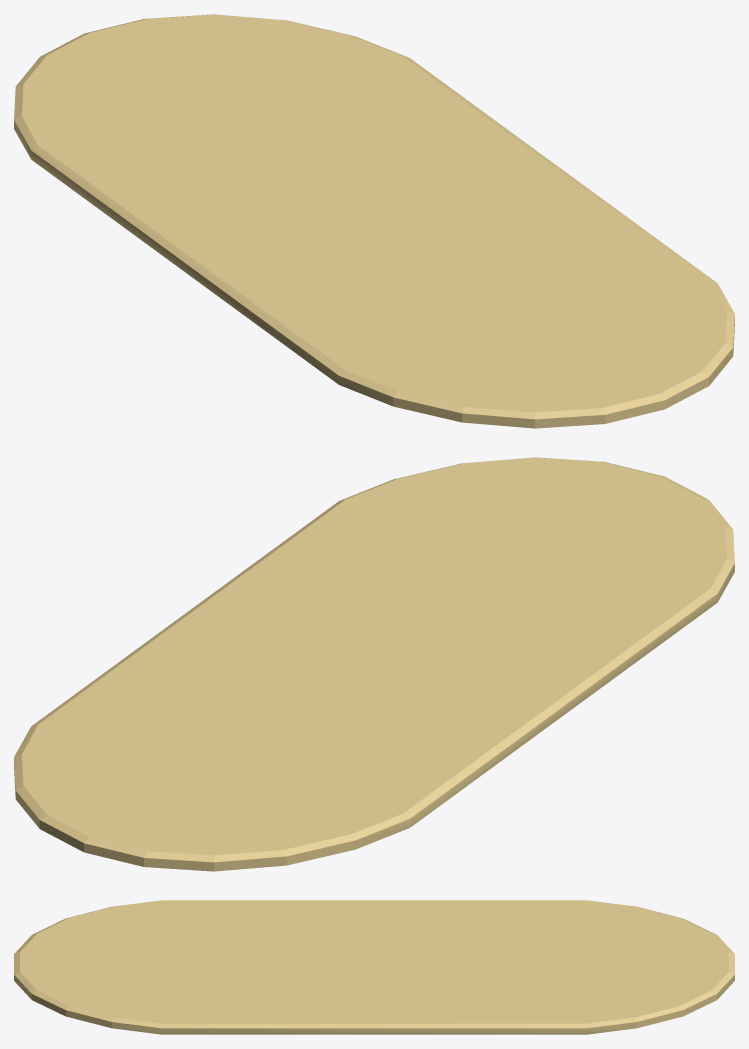
File: trotuar.fbx
The picture shows the model from 3 angles, top to bottom: view 1: azimuth 30°, elevation 25°; view 2: azimuth 150°, elevation 25°; view 3: azimuth 270°, elevation 25°; orthographic projection. The views are drawn at different scales.
Parts seen in each view (by area): view 1: Cylinder.063; view 2: Cylinder.063; view 3: Cylinder.063.
Boxes of the visible parts, left/top/right/bottom form: Cylinder.063: left=14, top=14, right=734, bottom=428; Cylinder.063: left=14, top=457, right=734, bottom=871; Cylinder.063: left=14, top=900, right=734, bottom=1034.
Bounding box in the file's own units: 202 × 6.41 × 482.
